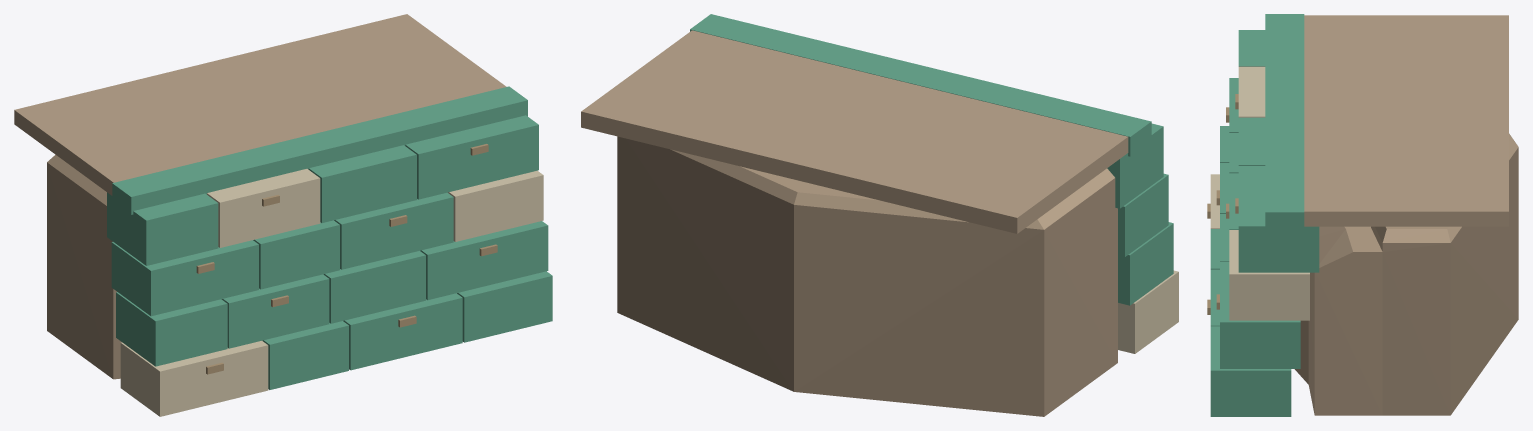
File: terrace-wall-mint.glb
3 renders of one model, left to right at view 1: azimuth 30°, elevation 25°; view 2: azimuth 150°, elevation 25°; view 3: azimuth 270°, elevation 25°, orthographic. The views are drawn at different scales.
Parts seen in each view (by area): view 1: terrace-wall-mint; view 2: terrace-wall-mint; view 3: terrace-wall-mint.
Part boxes in pixels (box(x1,y1,x2,y2)): terrace-wall-mint: box(14, 14, 552, 416); terrace-wall-mint: box(581, 14, 1178, 416); terrace-wall-mint: box(1207, 14, 1518, 416).
Bounding box in the file's own units: 6.04 × 2.93 × 4.01.
